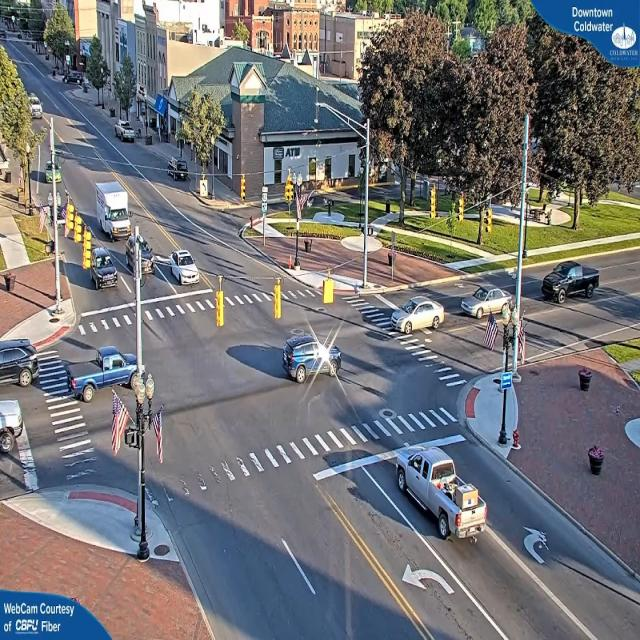car: (393, 446, 489, 545), (66, 345, 134, 402), (282, 333, 342, 384), (541, 262, 602, 300), (390, 297, 440, 335), (462, 286, 512, 320), (0, 340, 35, 386), (121, 236, 159, 277), (167, 251, 199, 287), (90, 252, 118, 288), (166, 160, 189, 180), (116, 122, 136, 143)
truck: (96, 177, 135, 243)
